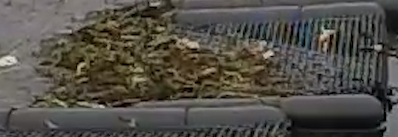bag: (1, 3, 388, 134)
